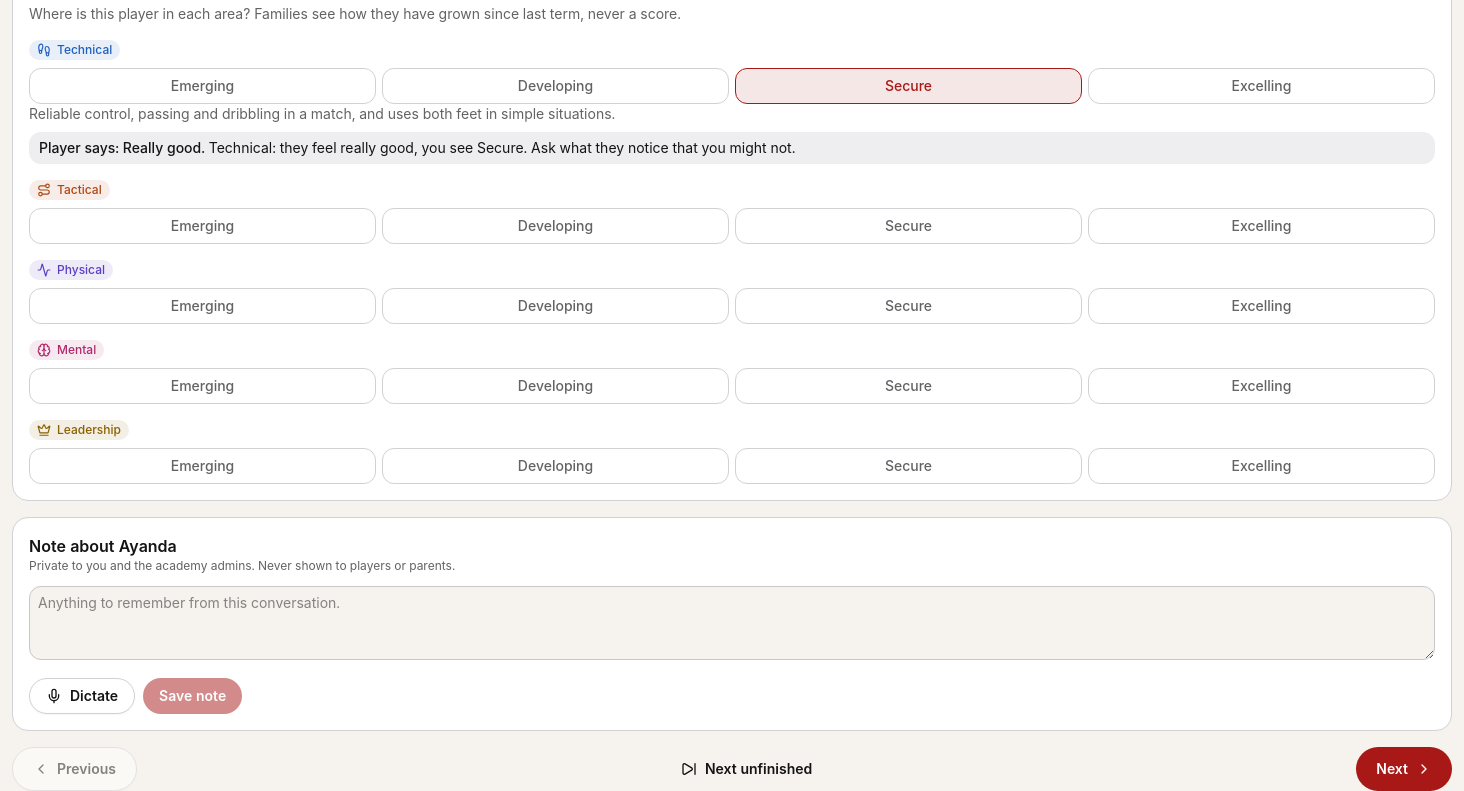
SquadReview › shows last term's band beside the area for the child on screen
(page scrolled)
Click the button "Next" at (1404, 769), box [1356,747,1452,790]
(page scrolled)
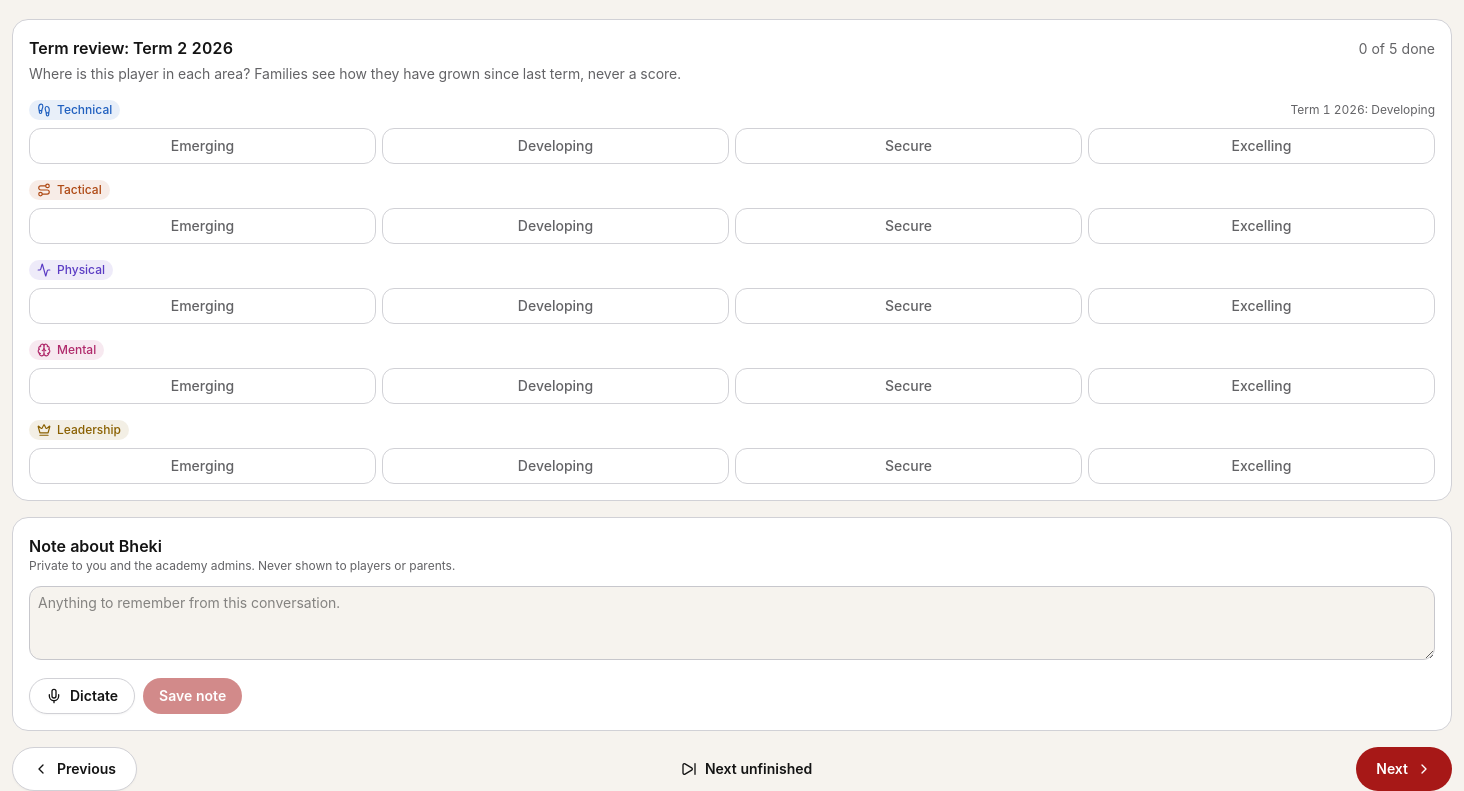
Expected: the text "Term 1 2026: Developing" is shown, [1290,102,1435,118]
